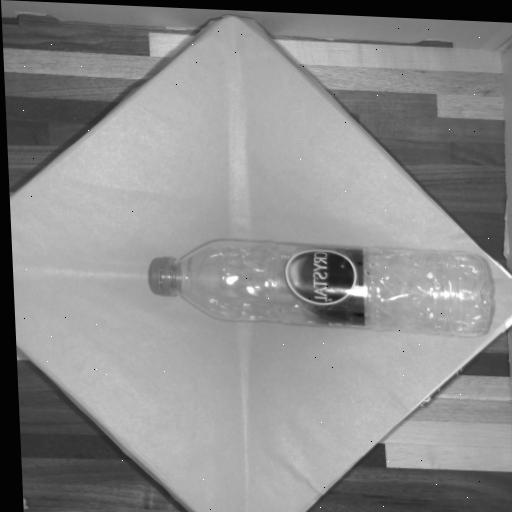bottle: (150, 240, 489, 334)
